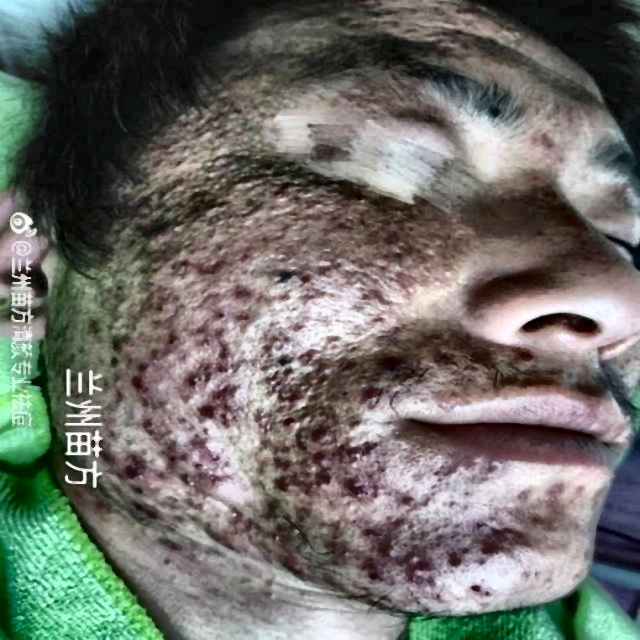nodule: (153, 322, 213, 363), (284, 267, 342, 309), (356, 530, 412, 571), (205, 510, 253, 550), (161, 245, 221, 277), (293, 342, 346, 378), (330, 466, 382, 502), (263, 470, 313, 506), (266, 528, 312, 566), (227, 236, 288, 264), (220, 141, 263, 179), (200, 379, 246, 412), (356, 376, 399, 411), (270, 179, 318, 210), (369, 301, 414, 334), (132, 500, 174, 535), (388, 483, 430, 518), (257, 354, 299, 388), (434, 542, 477, 575), (125, 356, 164, 392), (210, 312, 263, 336), (306, 208, 354, 234), (116, 449, 152, 483), (184, 463, 234, 487), (132, 191, 182, 215), (364, 234, 406, 262), (182, 352, 227, 378), (310, 247, 350, 276), (301, 424, 346, 449), (184, 435, 229, 459), (209, 285, 242, 317), (103, 371, 137, 402), (339, 440, 386, 462), (269, 390, 298, 424), (477, 540, 516, 565), (184, 395, 220, 422), (288, 442, 325, 468), (458, 577, 499, 600), (282, 310, 316, 336), (106, 330, 142, 354), (258, 331, 294, 355), (153, 222, 188, 246), (152, 301, 189, 320), (344, 264, 371, 290), (149, 393, 178, 416), (81, 314, 108, 338), (102, 296, 138, 314), (328, 542, 359, 562), (231, 194, 253, 222), (184, 155, 214, 175), (136, 414, 161, 437), (409, 556, 430, 575)
